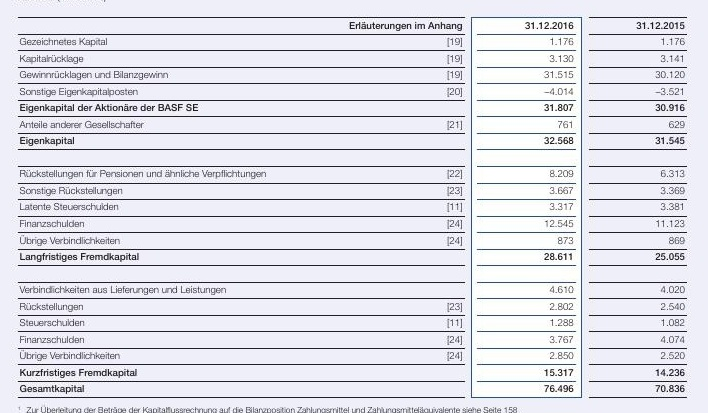table: (0, 0, 708, 413)
